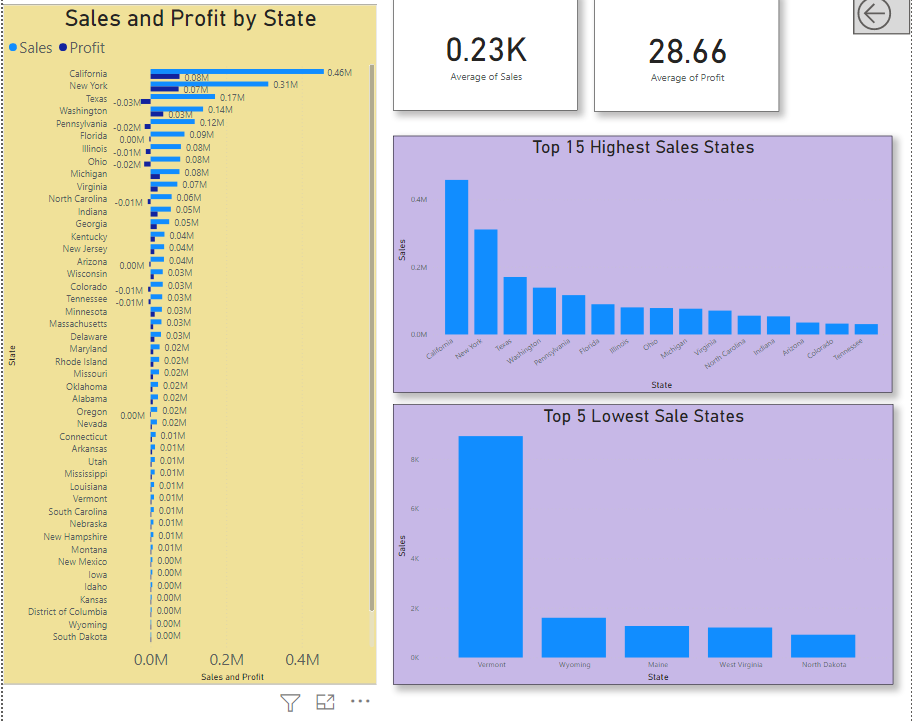

This screenshot's page, from the dashboard's own definition file:
{"tool":"powerbi","page":{"name":"Highest and lowest Sales","canvas":[1465,1200],"ordinal":2},"visuals":[{"type":"card","fields":{"Values":["Avg(SampleSuperstore.Sales)"]},"box":[629.2,0,298.5,191.6],"z":0},{"type":"card","fields":{"Values":["Avg(SampleSuperstore.Profit)"]},"box":[953.9,2,298.5,191.6],"z":1000},{"type":"clusteredBarChart","fields":{"Y":["Sum(SampleSuperstore.Sales)","Sum(SampleSuperstore.Profit)"],"Category":["SampleSuperstore.State"]},"box":[0,19.7,603.3,1096.9],"z":2000},{"type":"columnChart","title":"Top 15 Highest Sales States","fields":{"Category":["SampleSuperstore.State"],"Y":["Sum(SampleSuperstore.Sales)"]},"box":[630.1,231.5,805.9,414.1],"z":3000},{"type":"clusteredColumnChart","title":"Top 5 Lowest Sale States","fields":{"Y":["Sum(SampleSuperstore.Sales)"],"Category":["SampleSuperstore.State"]},"box":[629.6,664.7,807.3,451.9],"z":4000},{"type":"actionButton","box":[1371.4,0,92.8,68.6],"z":4001}]}

Visuals, with their boxes in screenshot pixels (x1, y1, x2, y2):
card - Avg(SampleSuperstore.Sales): (389,0,573,113)
card - Avg(SampleSuperstore.Profit): (589,0,773,114)
clusteredBarChart - Sum(SampleSuperstore.Sales) x Sum(SampleSuperstore.Profit): (2,7,374,682)
"Top 15 Highest Sales States" columnChart: (390,138,886,392)
"Top 5 Lowest Sale States" clusteredColumnChart: (390,404,886,682)
actionButton: (846,0,903,37)
